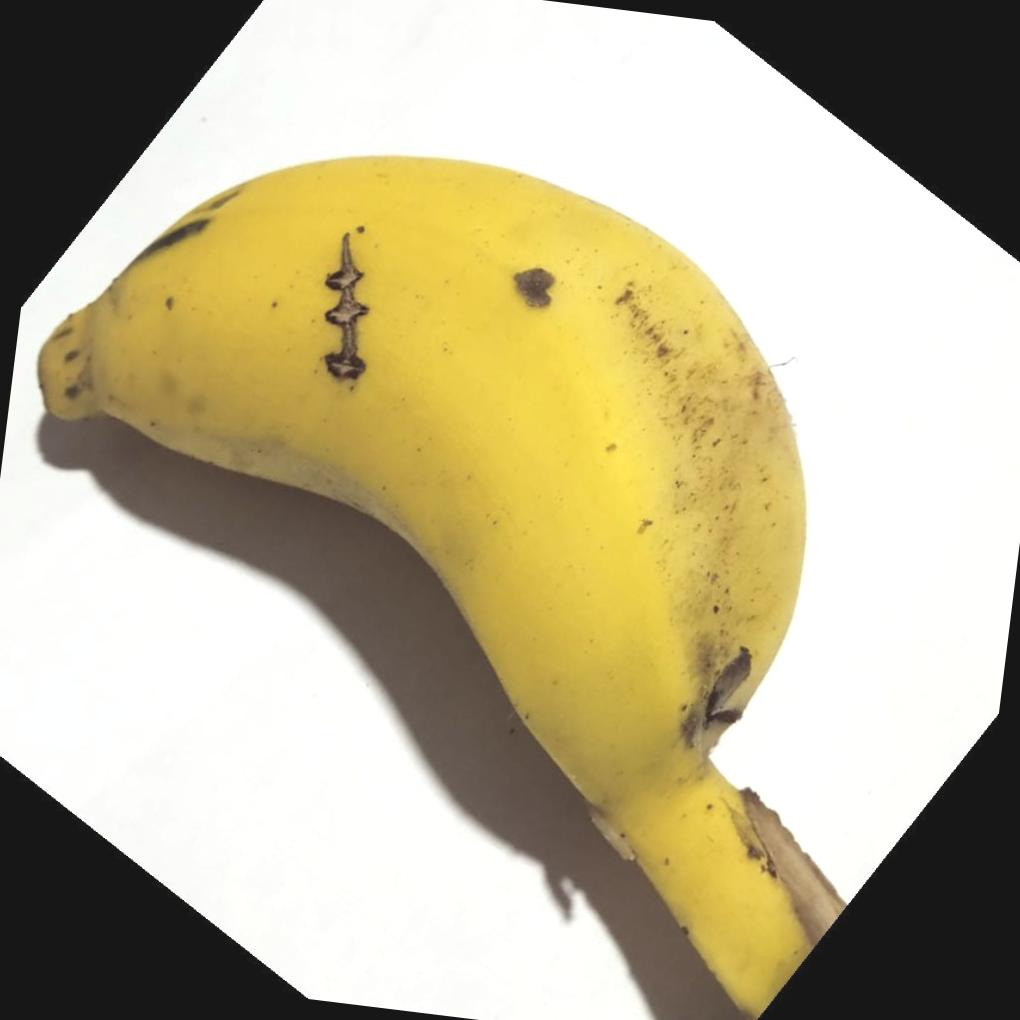Banana Ripe: (0, 124, 877, 978)
